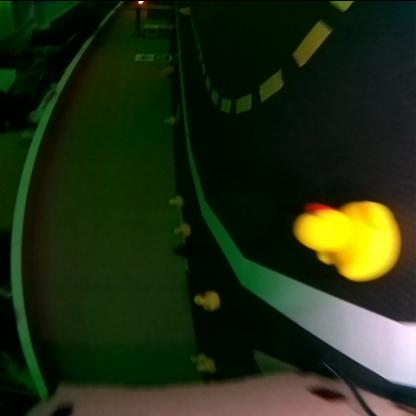Duckie: (293, 199, 399, 279), (194, 289, 218, 308), (196, 358, 212, 370), (172, 245, 188, 256), (167, 194, 183, 204), (173, 223, 189, 232), (162, 64, 174, 72), (190, 353, 204, 359), (165, 116, 173, 122)
Intersection sign: (136, 53, 150, 59)
QR code: (153, 53, 169, 59)
